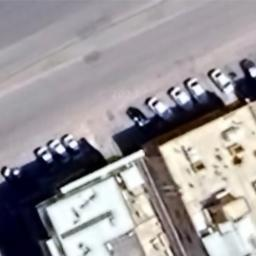sedan: (181, 76, 211, 108), (143, 92, 175, 122), (208, 66, 236, 96), (166, 84, 194, 113), (126, 104, 153, 133), (60, 133, 84, 163), (46, 137, 72, 164), (34, 144, 57, 172), (238, 54, 256, 82)
